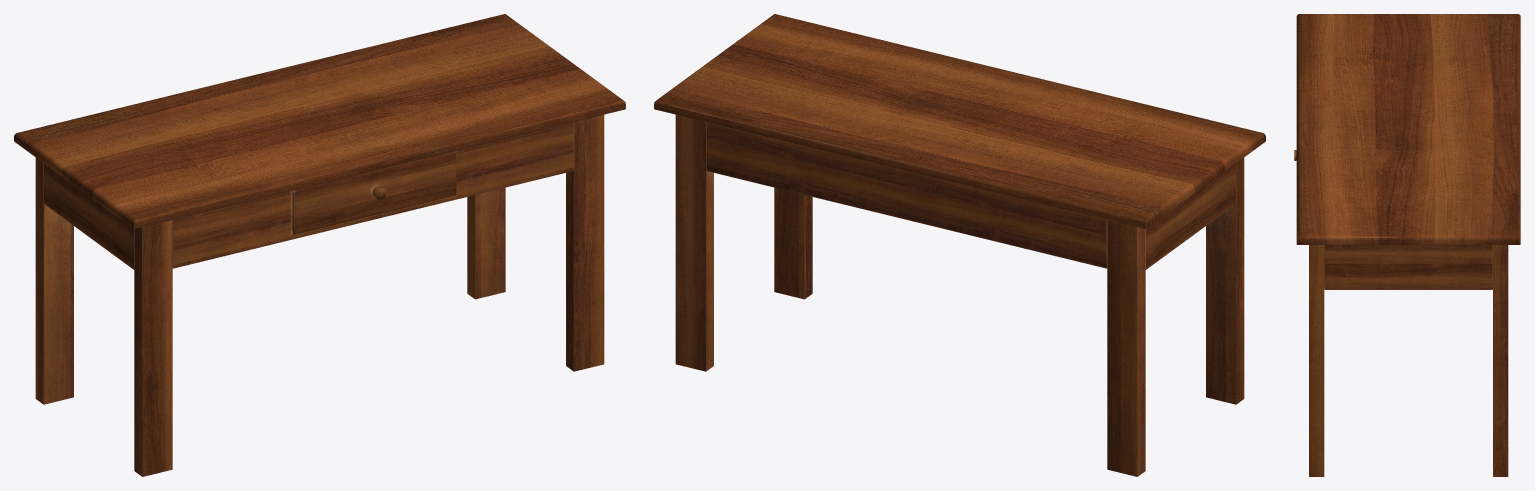
The model's file is table2.gltf.
3 views of the same model, side by side, from view 1: azimuth 30°, elevation 25°; view 2: azimuth 150°, elevation 25°; view 3: azimuth 270°, elevation 25° (orthographic). The views are drawn at different scales.
Visible parts, largest first — view 1: GenericClassicTable001.002; view 2: GenericClassicTable001.002; view 3: GenericClassicTable001.002.
Part boxes in pixels (x1=…): GenericClassicTable001.002: x1=14, y1=14, x2=625, y2=476; GenericClassicTable001.002: x1=654, y1=14, x2=1265, y2=476; GenericClassicTable001.002: x1=1294, y1=14, x2=1520, y2=476.
Bounding box in the file's own units: 1.12 × 0.5794 × 0.4803.
1 material, 1 textured.
